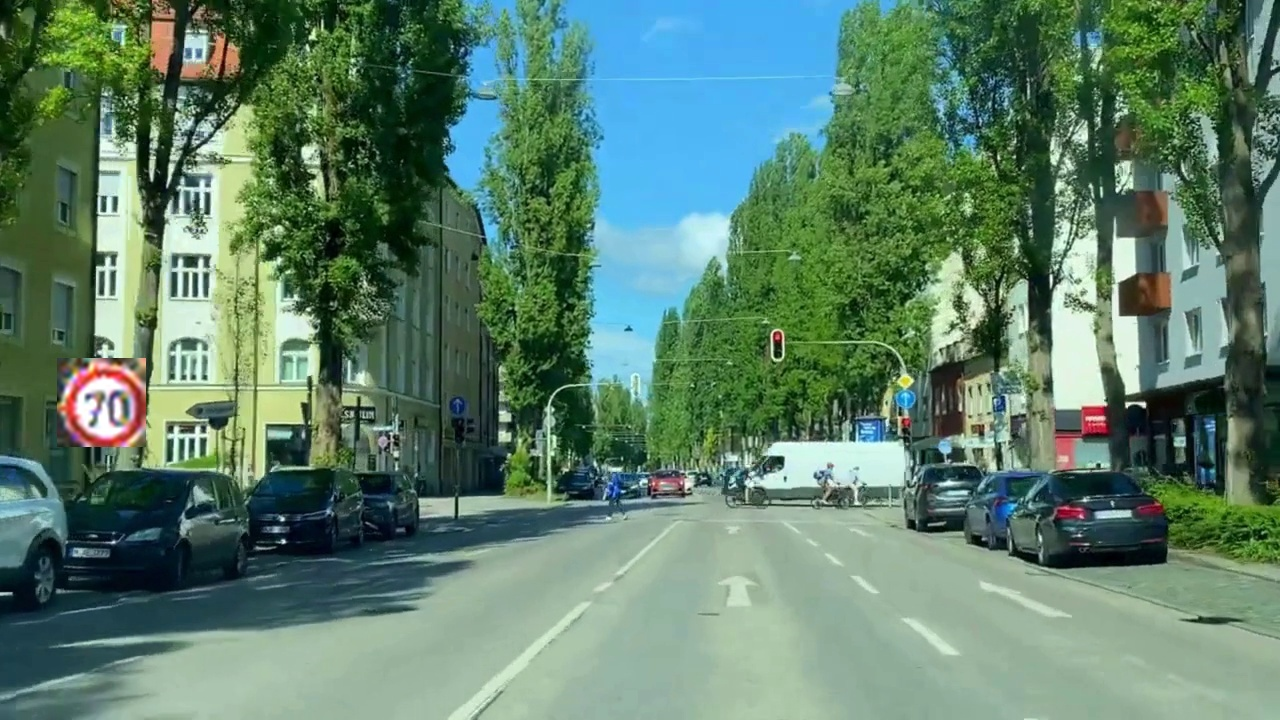Speed 70: (57, 358, 146, 447)
